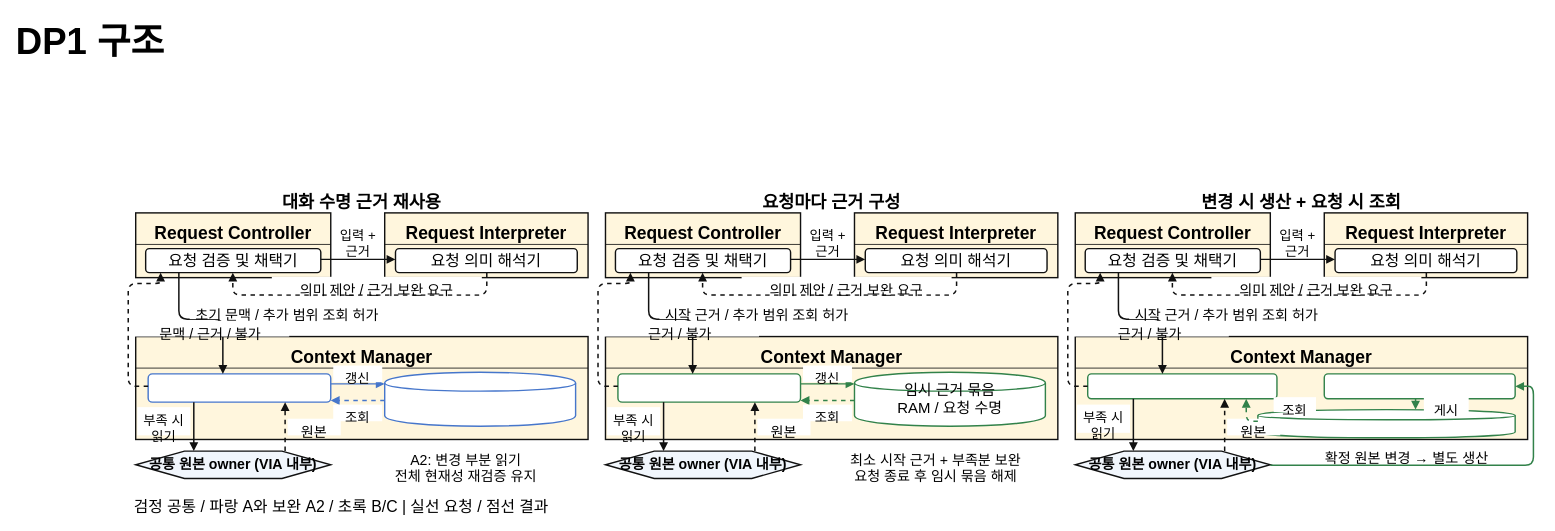
Image size: 1555x531. Some labels were removed from this diagram. Each missing label, with the box of its shape:
A2 변경 조각 갱신기: (147, 373, 331, 402)
게시 근거 (내구): (1257, 409, 1515, 438)
게시 근거 조회 및 보완기: (1087, 373, 1277, 399)
관계 생산 및 게시기: (1323, 373, 1515, 399)
원본 조회 및 묶음 구성기: (617, 373, 801, 402)
유효 작업 문맥 RAM / 대화 수명: (384, 371, 576, 427)
